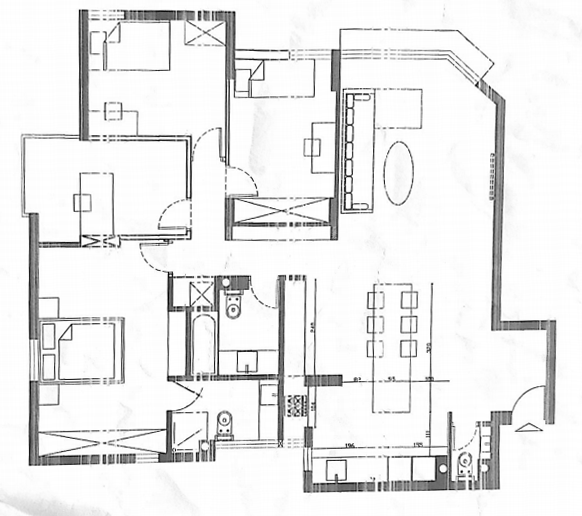door: (186, 121, 231, 167), (154, 194, 205, 234), (506, 384, 557, 424), (140, 240, 191, 280), (219, 165, 270, 205)
wall: (152, 1, 245, 36), (19, 204, 46, 318), (71, 61, 96, 152), (25, 405, 53, 473)
window: (25, 330, 41, 397), (85, 2, 127, 26), (281, 49, 334, 64), (123, 452, 168, 468)
